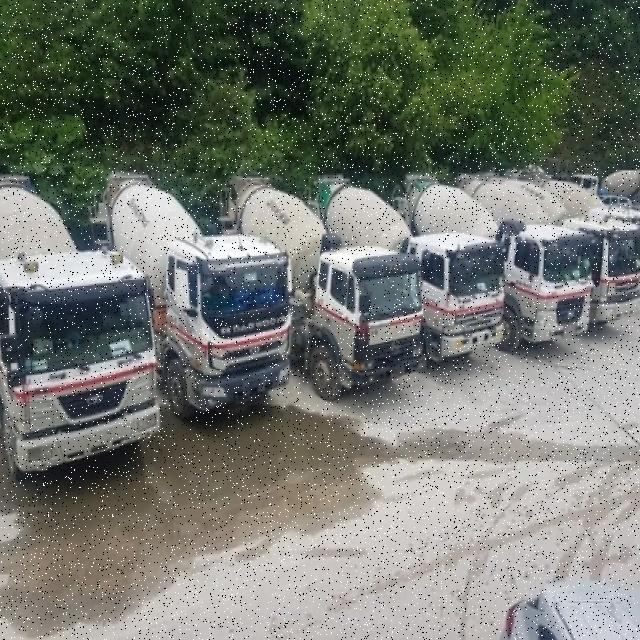Mixer Truck: (89, 174, 294, 422), (1, 173, 160, 480), (217, 174, 427, 404), (303, 172, 507, 369), (390, 174, 594, 356), (453, 174, 640, 336), (510, 173, 640, 295)
